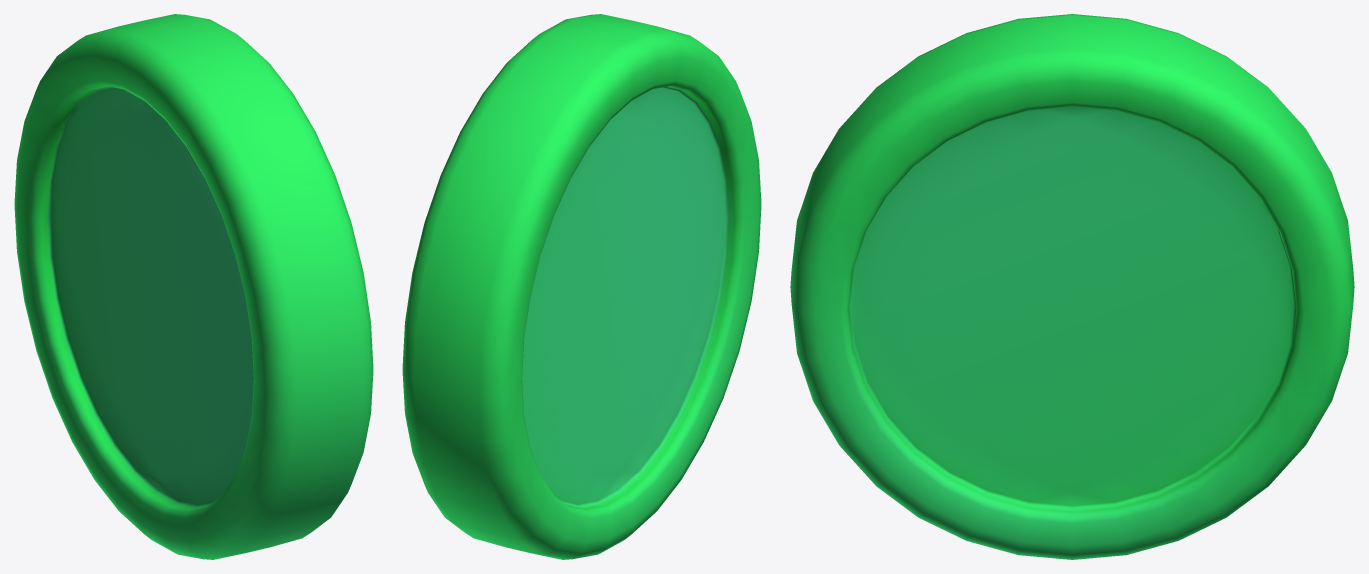
File: coin-green.fbx
3 views of the same model, side by side, from view 1: azimuth 30°, elevation 25°; view 2: azimuth 150°, elevation 25°; view 3: azimuth 270°, elevation 25° (orthographic). The views are drawn at different scales.
Parts seen in each view (by area): view 1: coin-LP-green; view 2: coin-LP-green; view 3: coin-LP-green.
Part boxes in pixels (x1=…): coin-LP-green: x1=14, y1=14, x2=373, y2=559; coin-LP-green: x1=402, y1=14, x2=761, y2=559; coin-LP-green: x1=790, y1=14, x2=1354, y2=559.
Size of the model in its own units: 0.0598 by 0.2673 by 0.2673.
Materials: 1 (1 with a texture image).
